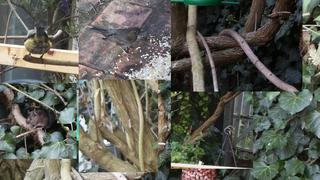blackbird: (89, 27, 144, 57)
blue tit: (24, 27, 52, 64)
mouse: (26, 110, 50, 133)
